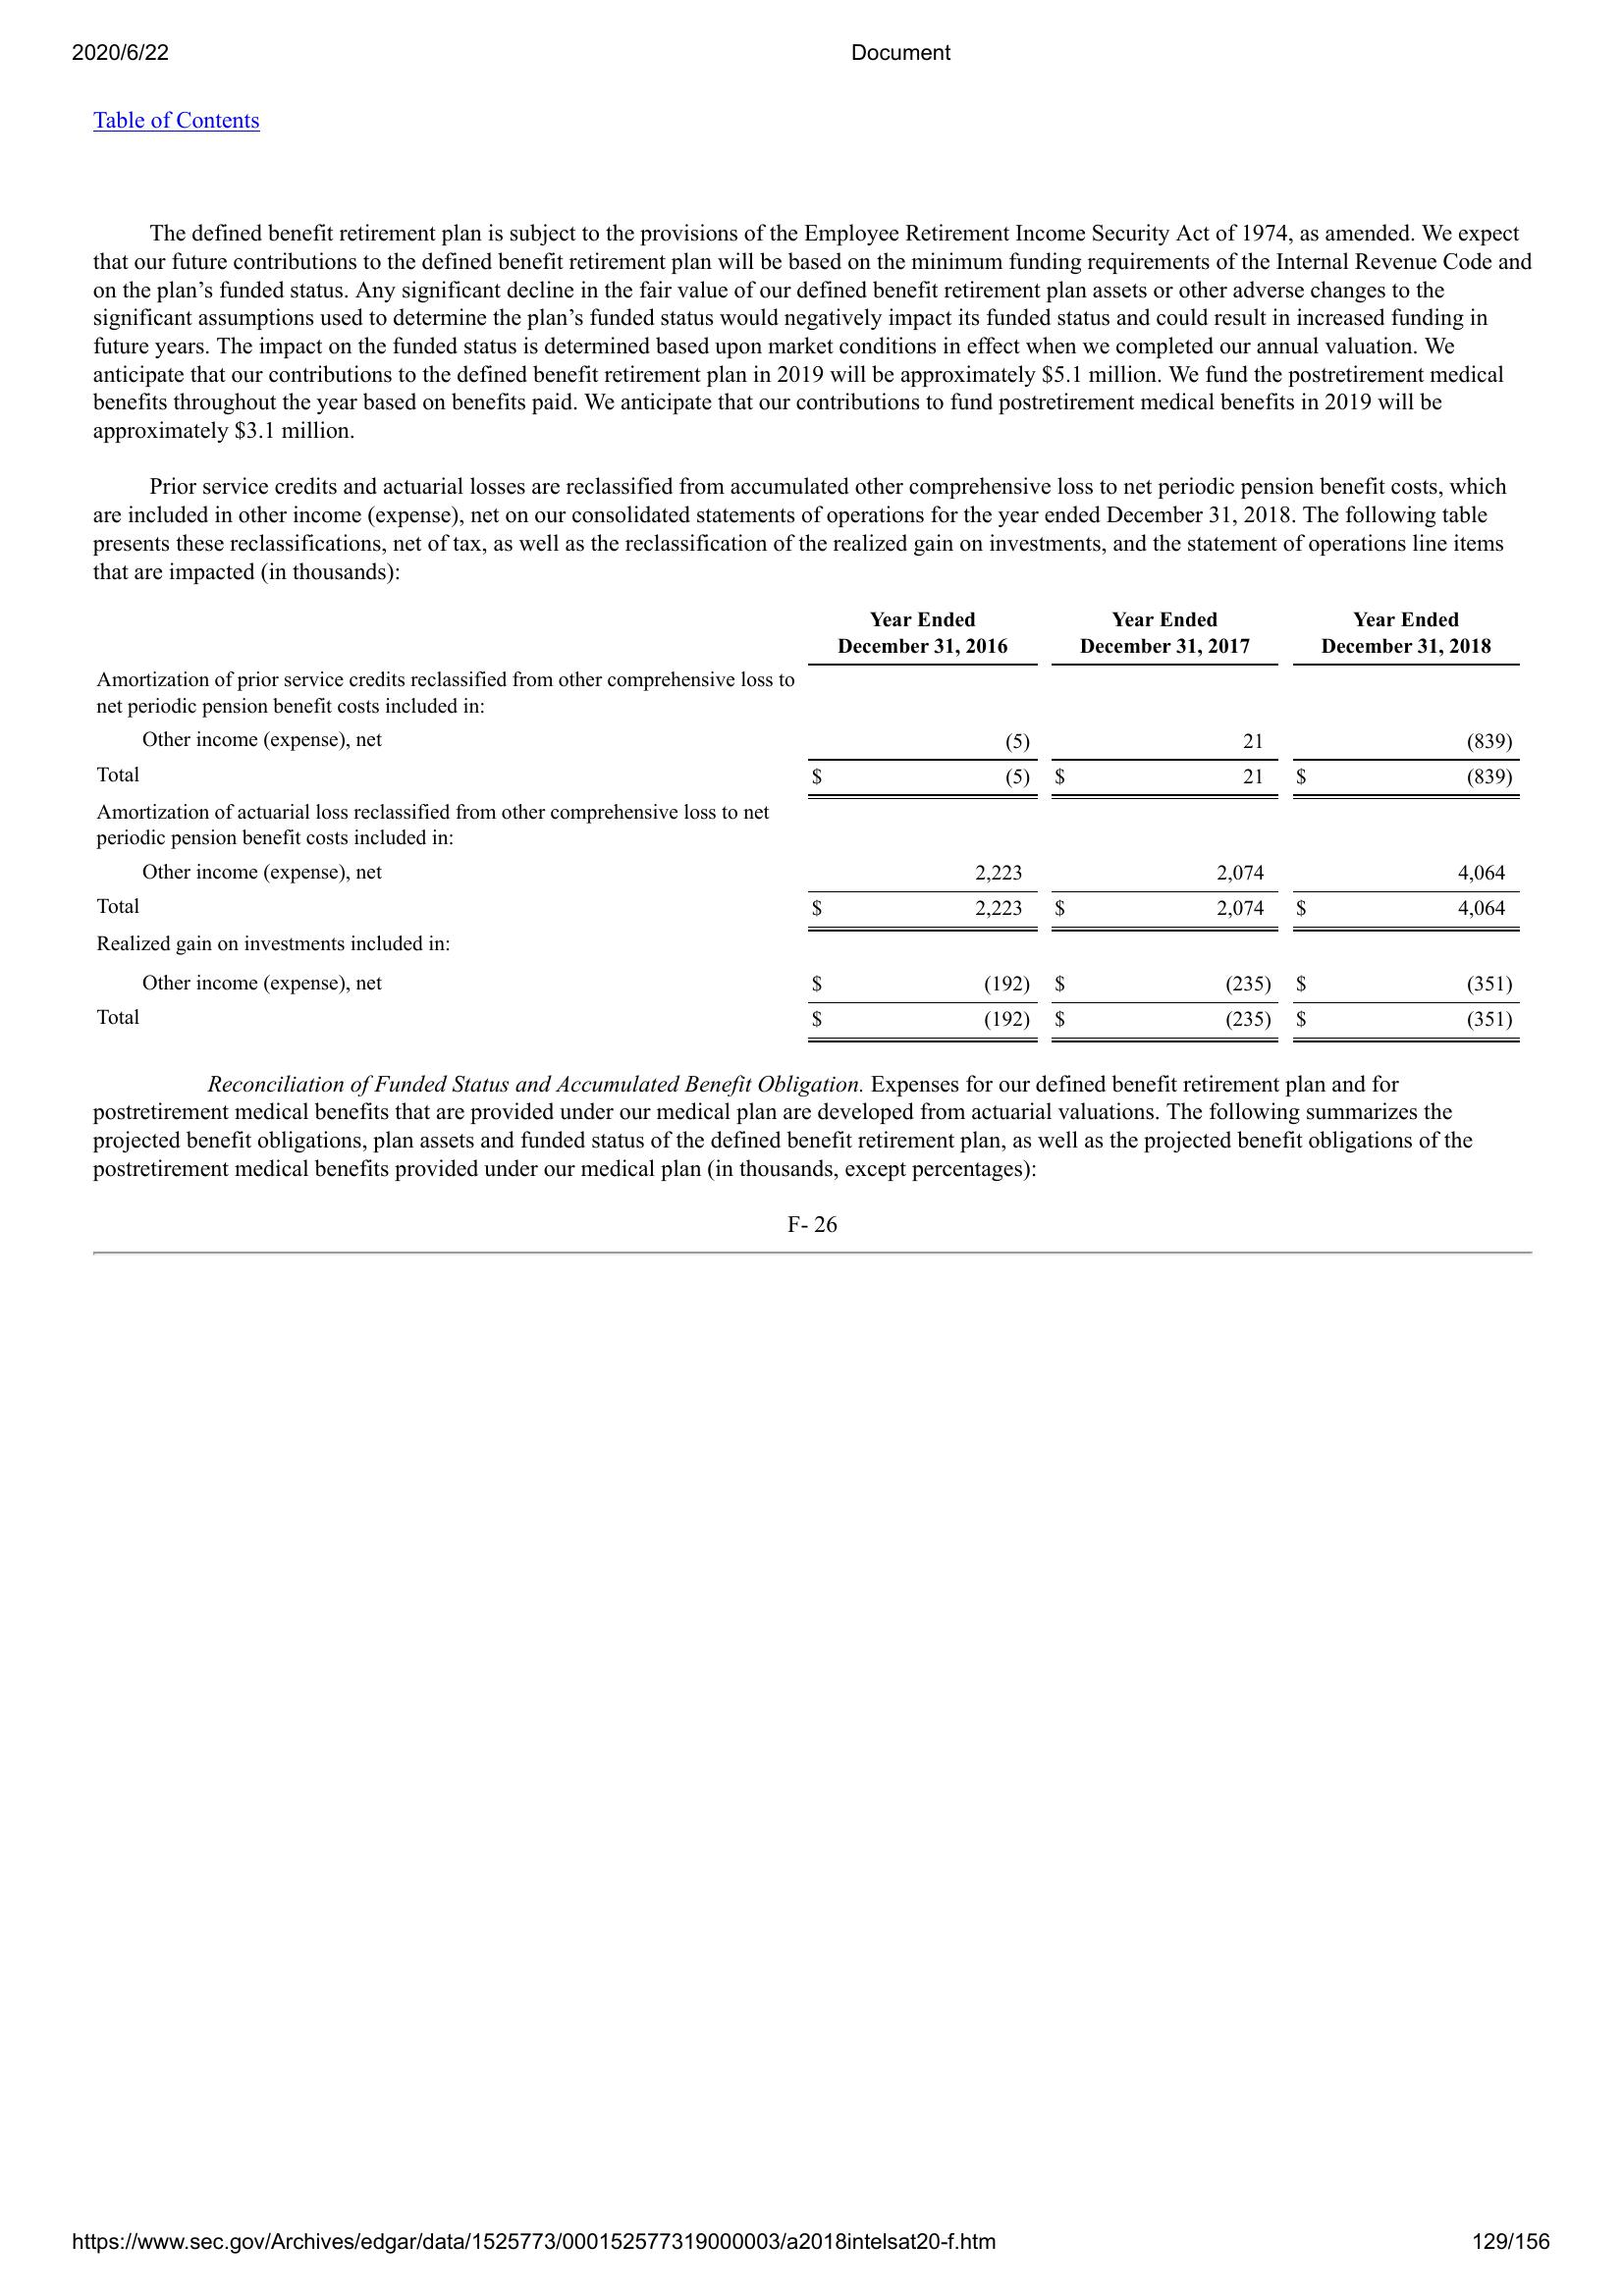table: (90, 604, 1525, 1055)
